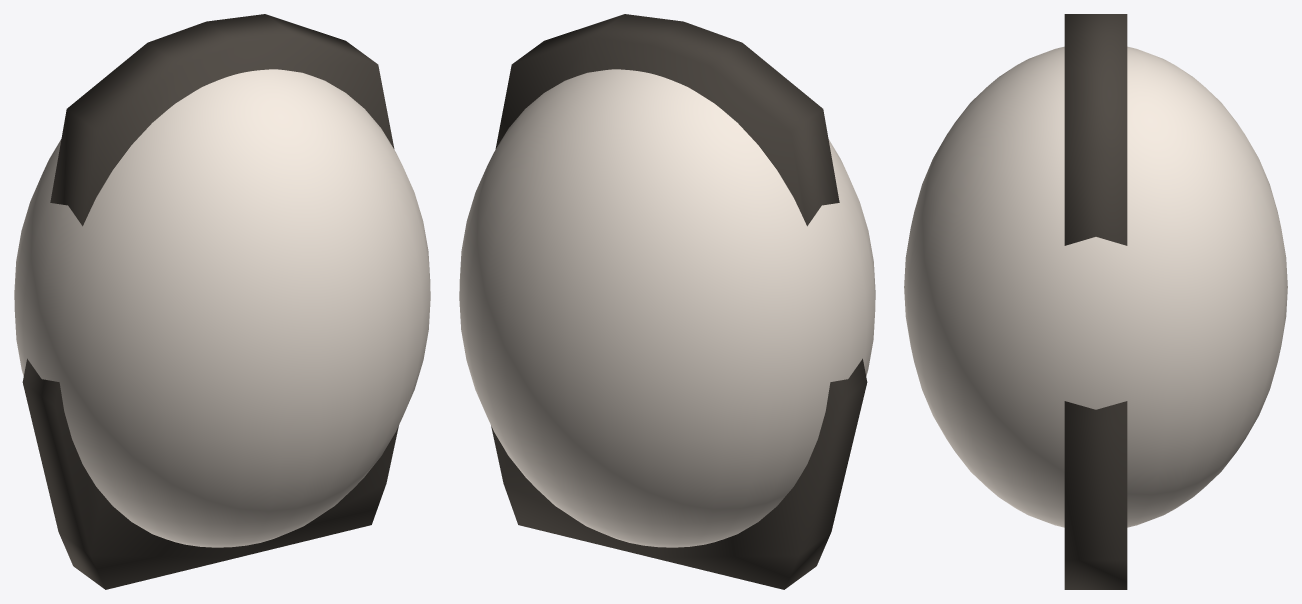
The model's file is hair_medium_natural.glb.
The picture shows the model from 3 angles, left to right: view 1: azimuth 30°, elevation 25°; view 2: azimuth 150°, elevation 25°; view 3: azimuth 270°, elevation 25°; orthographic projection. The views are drawn at different scales.
Visible parts, largest first — view 1: Head, Hair_medium_natural; view 2: Head, Hair_medium_natural; view 3: Head, Hair_medium_natural.
Part boxes in pixels (left/top/right/bottom): Head: left=14, top=69, right=430, bottom=547; Hair_medium_natural: left=22, top=14, right=398, bottom=589; Head: left=459, top=69, right=875, bottom=547; Hair_medium_natural: left=491, top=14, right=867, bottom=589; Head: left=904, top=46, right=1287, bottom=527; Hair_medium_natural: left=1064, top=14, right=1127, bottom=589.
Bounding box in the file's own units: 1.7 × 2.27 × 1.6.
